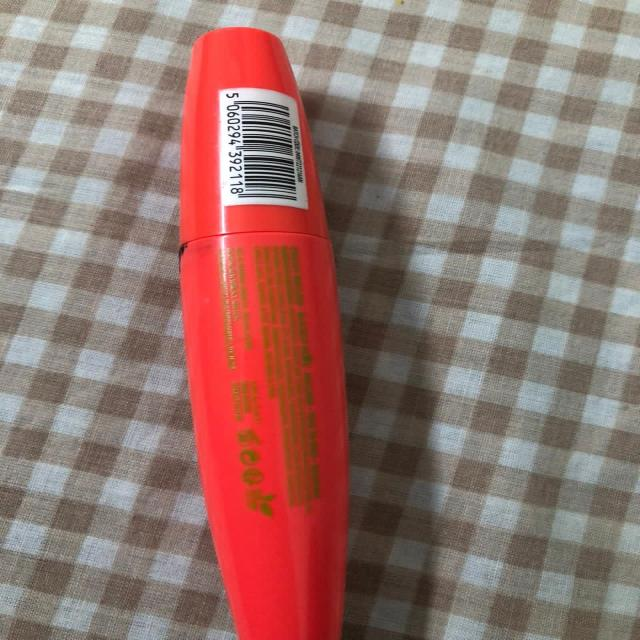mascara: (158, 24, 424, 640)
